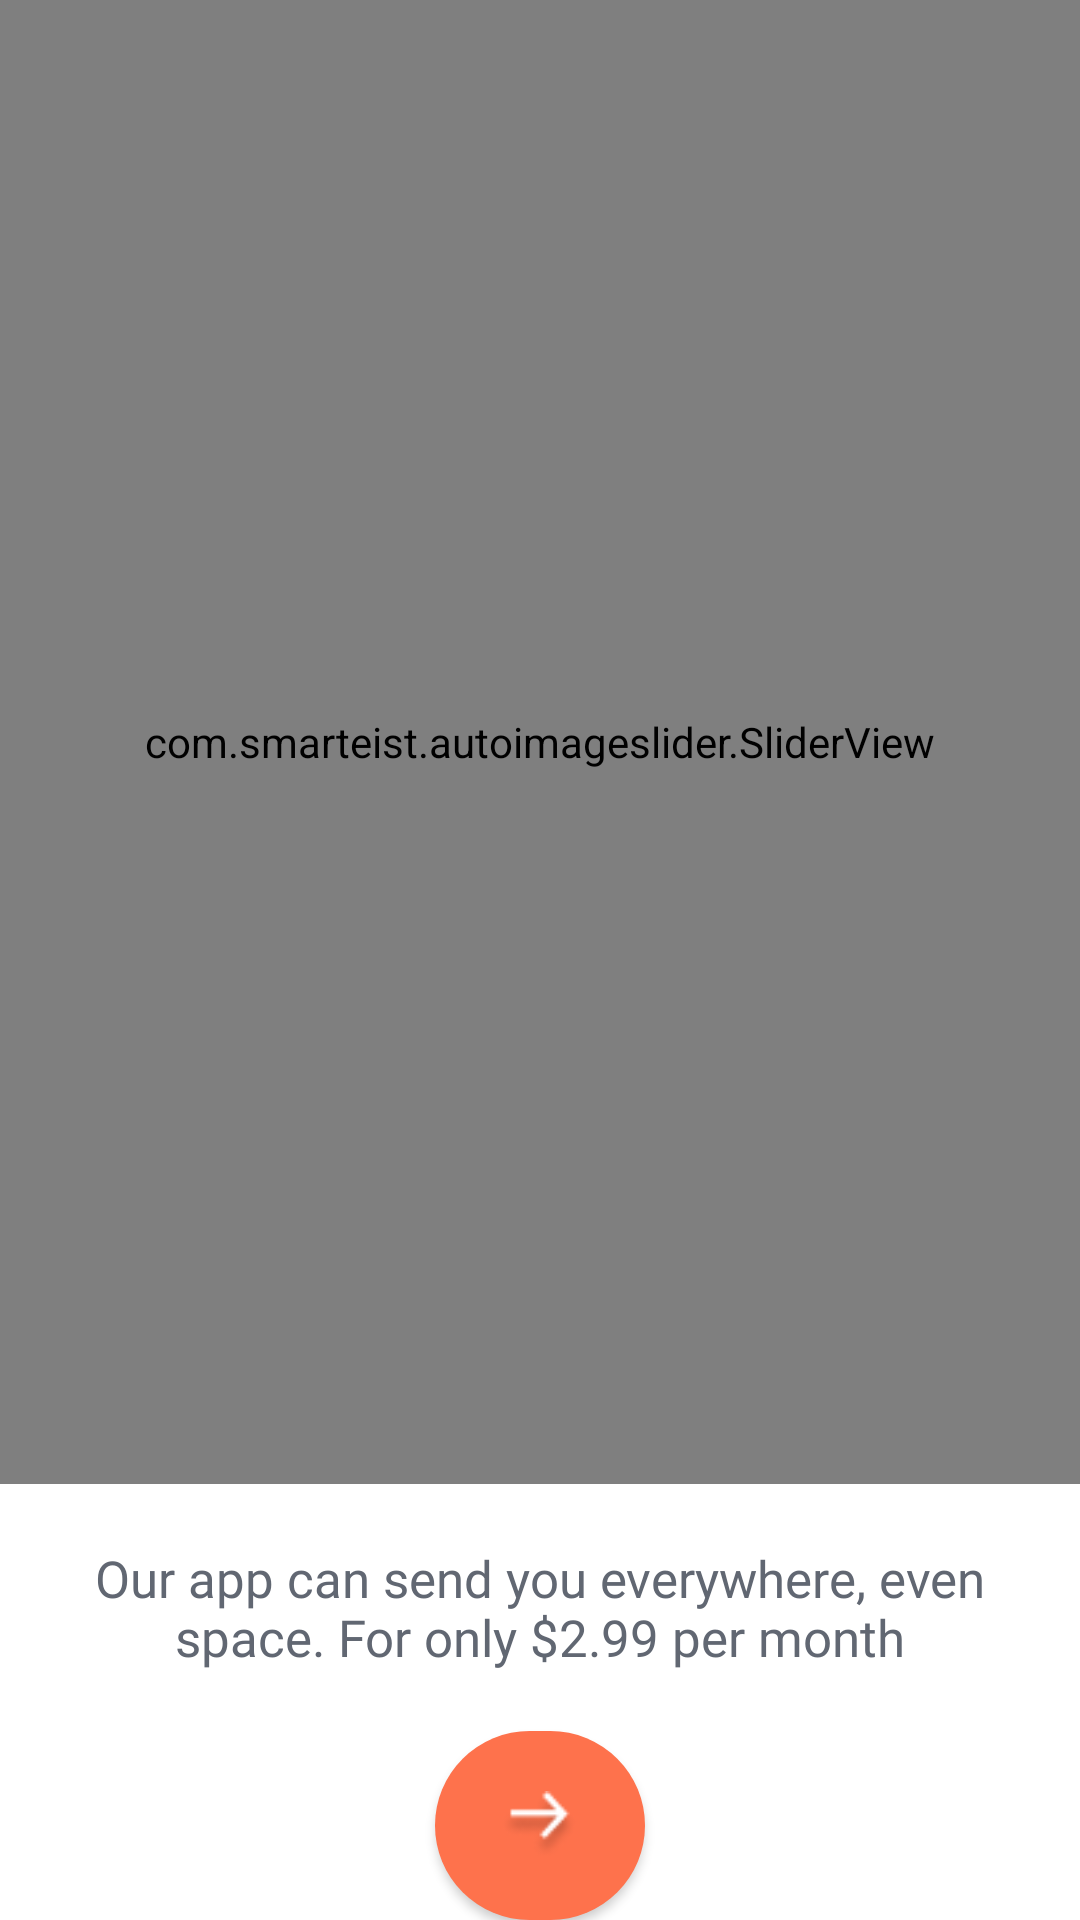

Icons on this 1080x1920 Android screen, each with its box as Rect(x1, y1, x2, y2):
right arr: Rect(435, 1731, 645, 1920)
